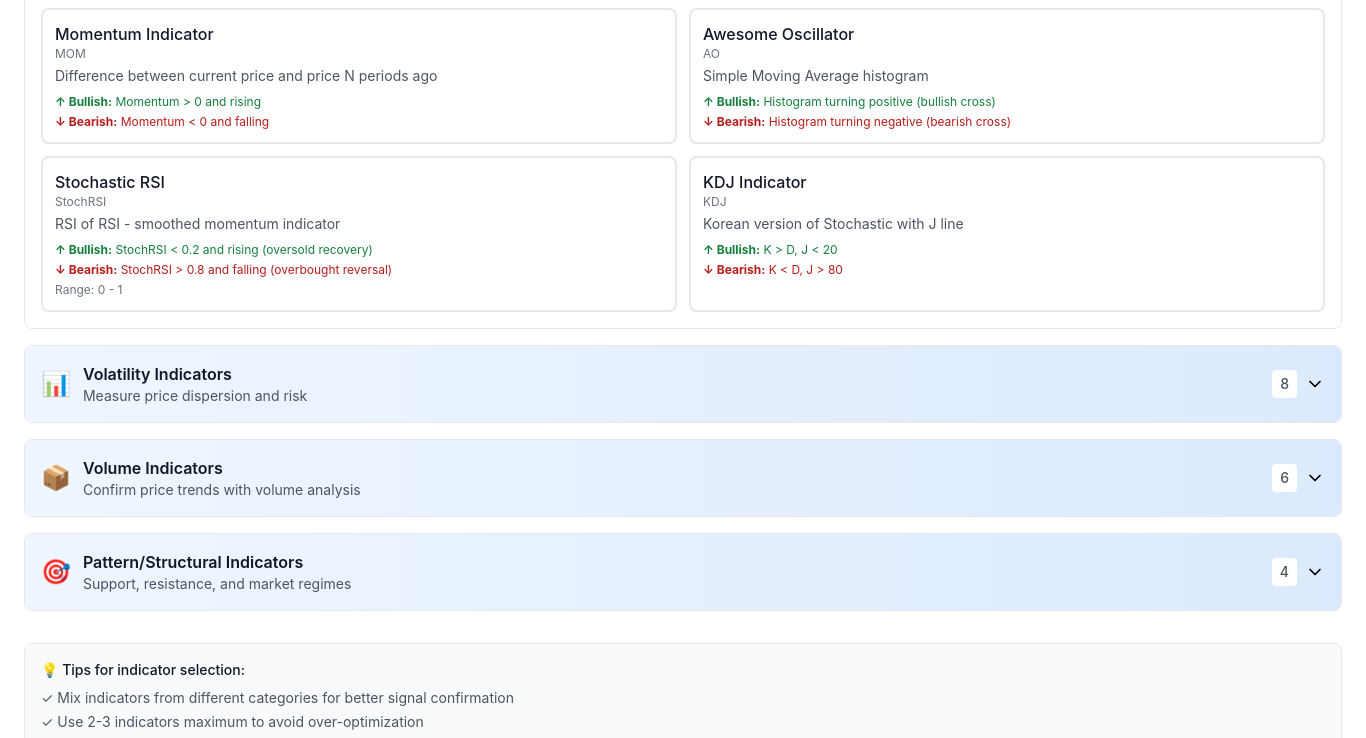
it: IndicatorMenu › clicking category header toggles expansion
(page scrolled)
Expected: the text "Bollinger Bands" is not shown
# Click to expand
Click the element showing "📊 Volatility Indicators Measure price dispersion and risk" at (174, 384), box left=41, top=362, right=307, bottom=406
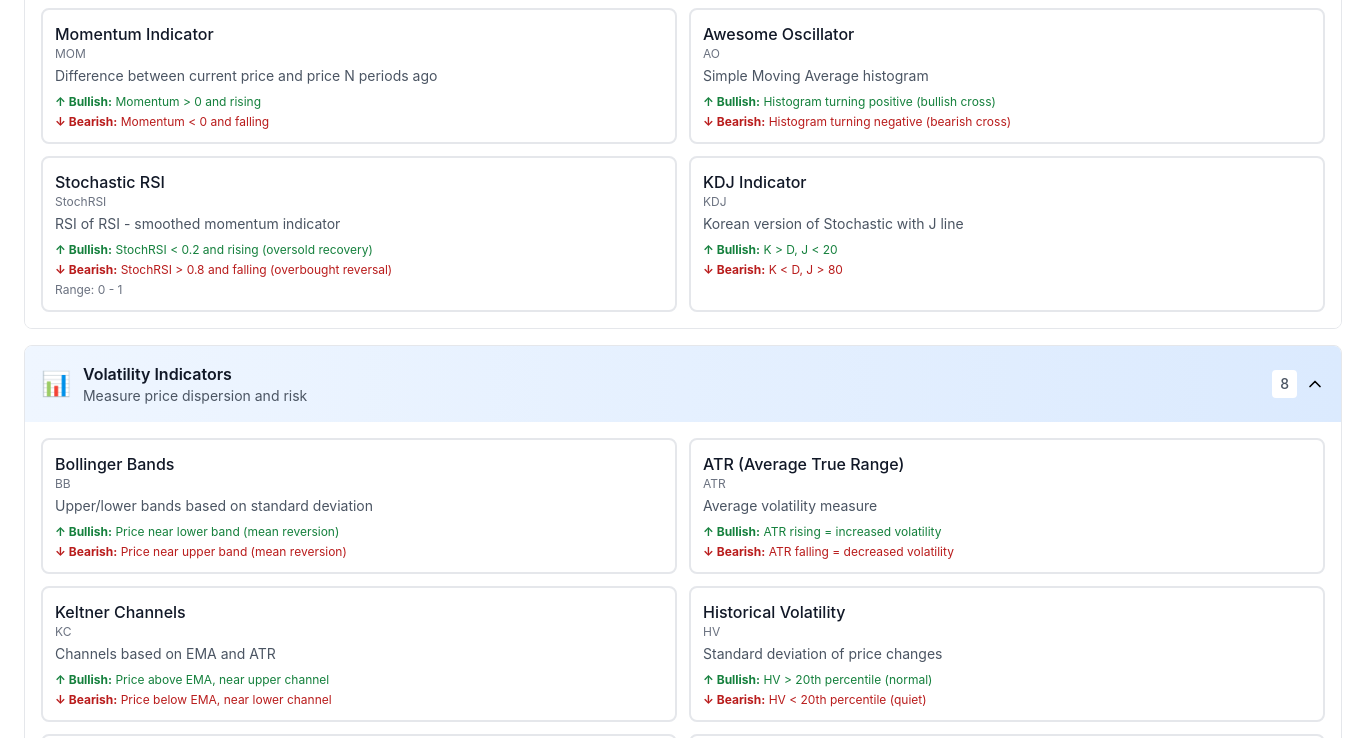
Expected: the heading "Bollinger Bands" is shown, left=55, top=454, right=174, bottom=474
